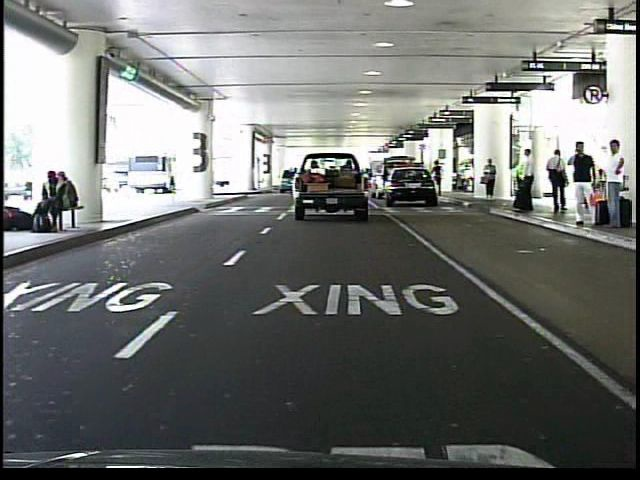person: (564, 138, 598, 227), (600, 137, 629, 236), (546, 145, 572, 216), (512, 146, 538, 216), (481, 158, 499, 204), (432, 160, 445, 198)
